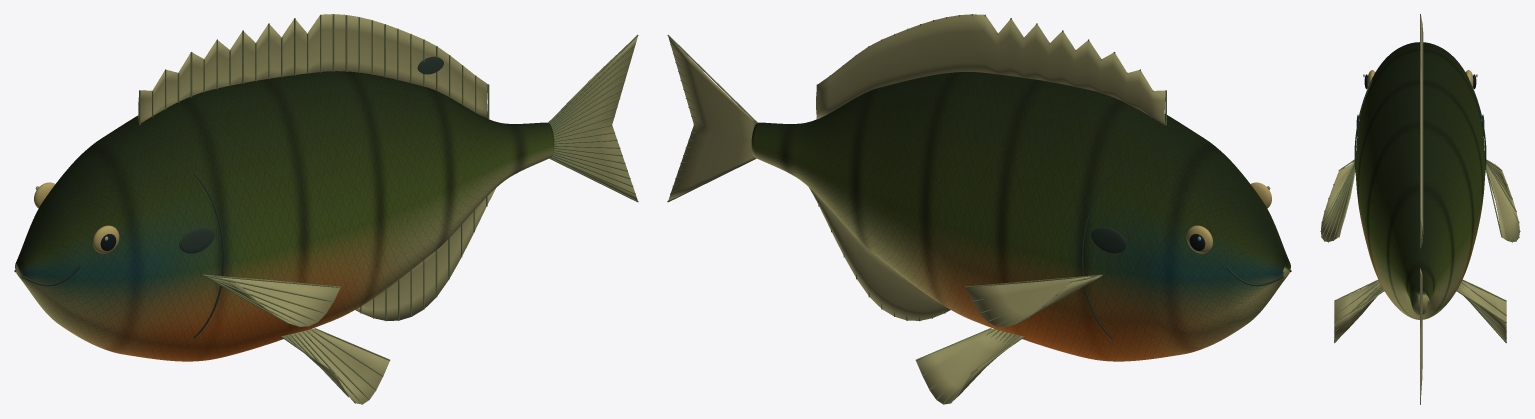
The model's file is bluegill.glb.
3 views of the same model, side by side, from view 1: azimuth 30°, elevation 25°; view 2: azimuth 150°, elevation 25°; view 3: azimuth 270°, elevation 25° (orthographic). The views are drawn at different scales.
Visible parts, largest first — view 1: bluegill body.002, dorsal.004, caudal.004, anal.004, pelvic.008, pectoral.008, black ear flap.004; view 2: bluegill body.002, dorsal.004, caudal.004, anal.004, pelvic.009, pectoral.009, black ear flap.005; view 3: bluegill body.002, pectoral.009, pectoral.008, pelvic.008, pelvic.009, dorsal.004, caudal.004.
Boxes of the visible parts, bbox=[...] form: bluegill body.002: bbox=[15, 71, 554, 361]; dorsal.004: bbox=[138, 14, 488, 123]; caudal.004: bbox=[552, 36, 637, 200]; anal.004: bbox=[355, 188, 495, 320]; pelvic.008: bbox=[282, 328, 389, 404]; pectoral.008: bbox=[211, 276, 340, 326]; black ear flap.004: bbox=[179, 227, 214, 253]; bluegill body.002: bbox=[751, 72, 1290, 361]; dorsal.004: bbox=[816, 14, 1165, 125]; caudal.004: bbox=[668, 37, 756, 200]; anal.004: bbox=[809, 187, 950, 320]; pelvic.009: bbox=[916, 329, 1022, 404]; pectoral.009: bbox=[966, 276, 1100, 326]; black ear flap.005: bbox=[1091, 227, 1126, 253]; bluegill body.002: bbox=[1355, 42, 1485, 319]; pectoral.009: bbox=[1486, 160, 1519, 242]; pectoral.008: bbox=[1320, 161, 1355, 241]; pelvic.008: bbox=[1334, 280, 1383, 342]; pelvic.009: bbox=[1457, 280, 1506, 342]; dorsal.004: bbox=[1420, 14, 1423, 247]; caudal.004: bbox=[1420, 268, 1422, 404].
Size of the model in its own units: 2.26 by 1.23 by 0.773.
Materials: 7 (1 with a texture image).
